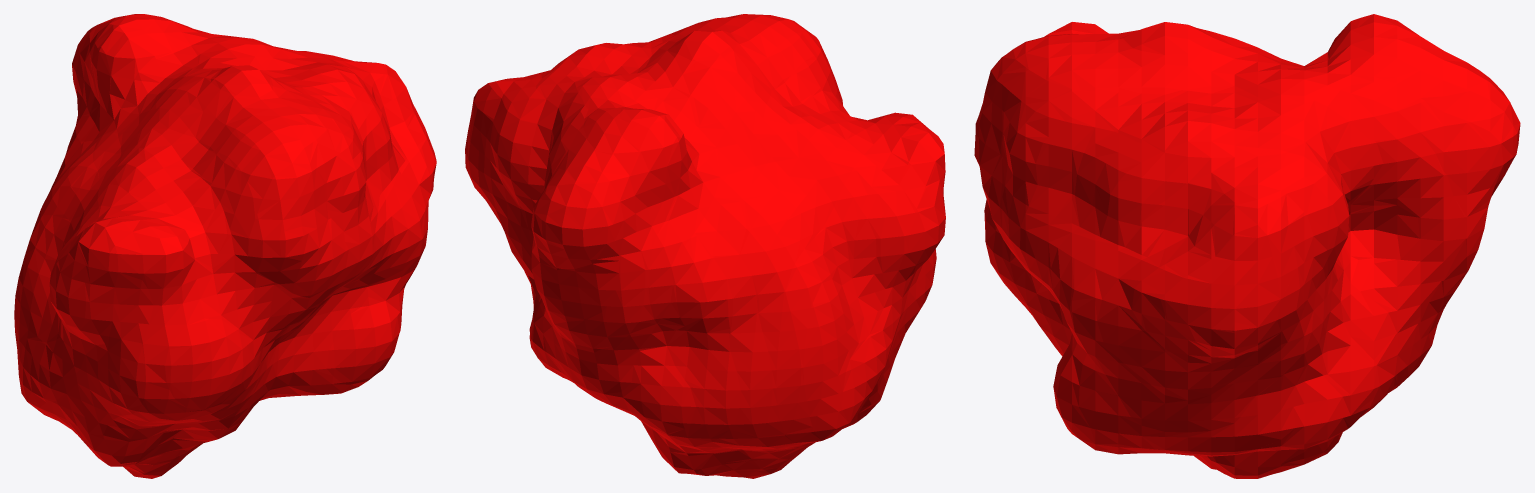
Rendered from cpdA_coarse.dae.
The picture shows the model from 3 angles, left to right: view 1: azimuth 30°, elevation 25°; view 2: azimuth 150°, elevation 25°; view 3: azimuth 270°, elevation 25°; orthographic projection. The views are drawn at different scales.
Parts seen in each view (by area): view 1: cpdA; view 2: cpdA; view 3: cpdA.
Boxes of the visible parts, <box> form: cpdA: <box>14,14,436,478</box>; cpdA: <box>465,14,945,478</box>; cpdA: <box>974,14,1520,478</box>.
Size of the model in its own units: 53.91 by 50.14 by 51.34.
